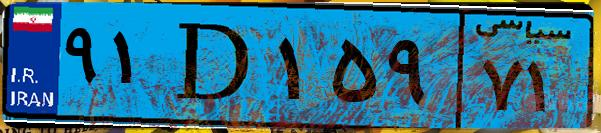1: (270, 28, 330, 110), (525, 38, 570, 115), (110, 28, 158, 98)
5: (330, 28, 385, 110)
7: (475, 38, 525, 113)
9: (385, 28, 445, 110), (57, 26, 110, 100)
D: (158, 12, 270, 120)
